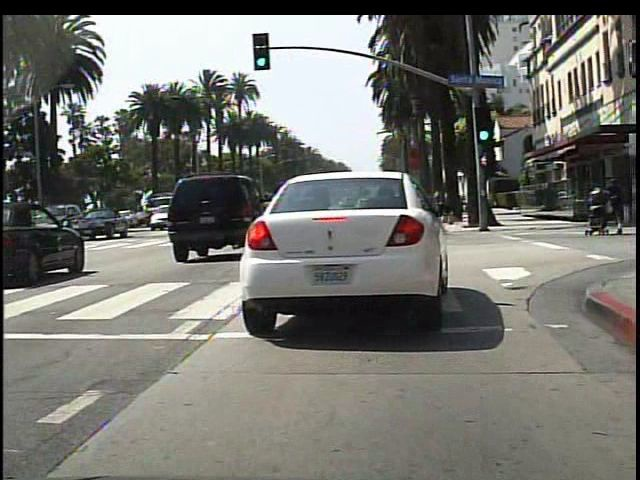person: (581, 162, 628, 242)
